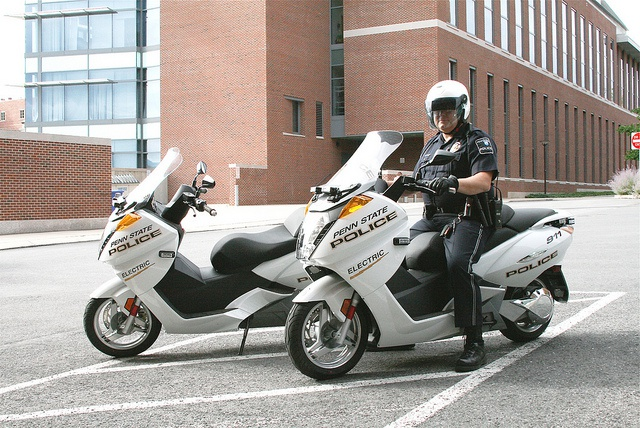non-vehicle: (284, 130, 573, 380), (81, 141, 311, 356)
